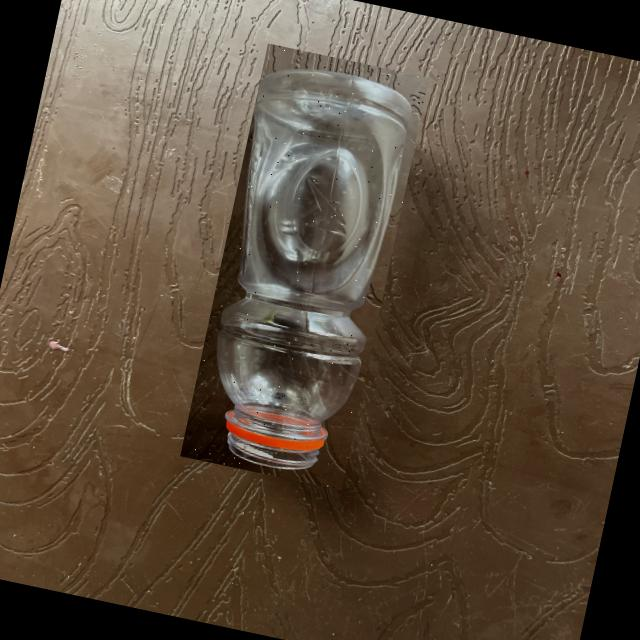PET_With_Cap: (180, 43, 429, 490)
